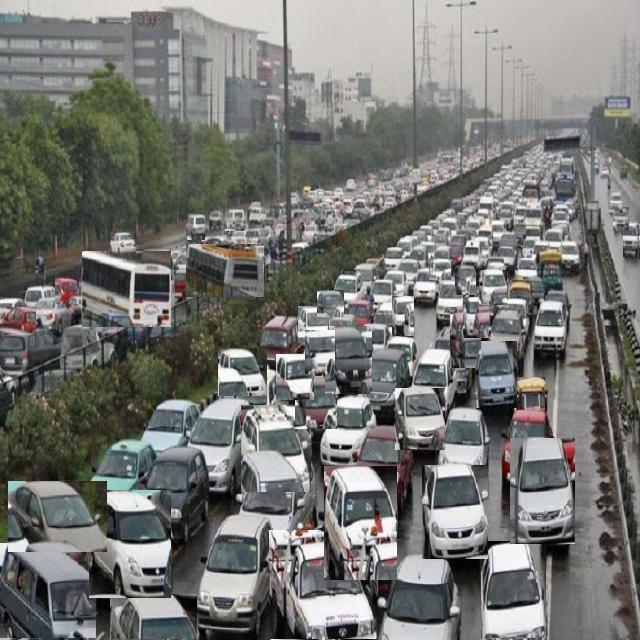autorickshaw: (539, 250, 562, 292), (518, 377, 545, 410)
bus: (82, 252, 171, 327), (186, 244, 264, 297)
car: (270, 531, 377, 639), (196, 516, 279, 636), (238, 450, 318, 571), (0, 544, 96, 638), (89, 490, 171, 598), (325, 467, 397, 580), (379, 555, 461, 640), (9, 482, 107, 552), (510, 439, 575, 544), (481, 542, 546, 638), (190, 400, 256, 494), (422, 465, 488, 559), (146, 447, 209, 543), (241, 406, 311, 492), (356, 426, 414, 513), (439, 407, 490, 485), (501, 407, 552, 485), (320, 396, 376, 467), (111, 594, 197, 639), (91, 439, 156, 496), (358, 349, 411, 416), (325, 327, 372, 394), (395, 389, 445, 450), (142, 400, 200, 452), (412, 349, 458, 412), (0, 328, 61, 375), (435, 326, 474, 397), (476, 342, 517, 408), (219, 349, 267, 396), (260, 315, 302, 368), (238, 370, 280, 422), (296, 377, 337, 429), (450, 307, 481, 368), (534, 300, 566, 357), (490, 310, 524, 363), (276, 354, 314, 400), (32, 296, 74, 335), (436, 276, 464, 325), (305, 330, 335, 374), (388, 336, 419, 378), (299, 306, 329, 343), (464, 298, 489, 338), (374, 302, 402, 337), (412, 268, 440, 303), (334, 274, 365, 305), (480, 270, 507, 305), (0, 307, 36, 333), (392, 297, 414, 336), (461, 239, 484, 275), (25, 285, 58, 310), (396, 259, 419, 292), (348, 298, 374, 326), (318, 291, 344, 317), (55, 277, 79, 304), (355, 263, 378, 291), (498, 246, 518, 276), (455, 267, 476, 295), (562, 240, 580, 271), (110, 233, 136, 254), (624, 222, 639, 257), (449, 235, 466, 265), (429, 259, 451, 280), (516, 257, 538, 278), (188, 214, 205, 240), (384, 246, 404, 268), (409, 246, 429, 268), (225, 210, 245, 231), (491, 220, 505, 249), (249, 201, 266, 224), (522, 235, 540, 256), (614, 208, 629, 231), (209, 210, 224, 232), (609, 192, 623, 213), (422, 240, 436, 260)
